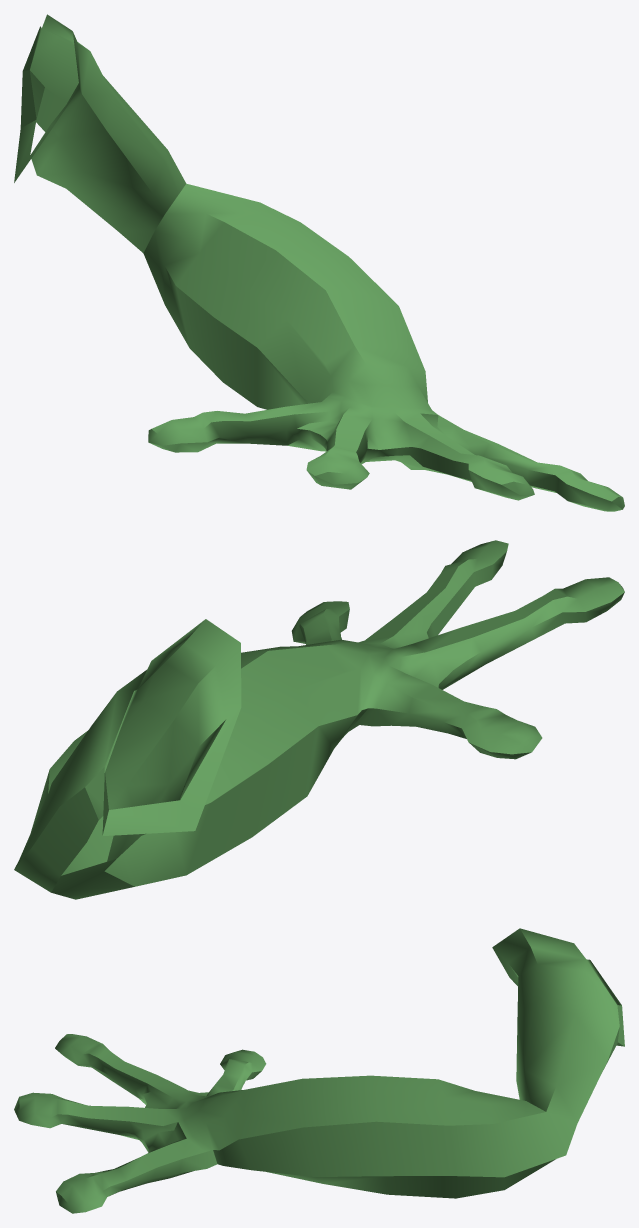
Rendered from rana_pia.obj.
3 views of the same model, one above another, from view 1: azimuth 30°, elevation 25°; view 2: azimuth 150°, elevation 25°; view 3: azimuth 270°, elevation 25° (orthographic). The views are drawn at different scales.
Parts seen in each view (by area): view 1: pataID; view 2: pataID; view 3: pataID.
Part boxes in pixels (x1,y1,x2,y2): pataID: (14, 14, 624, 511); pataID: (14, 540, 624, 899); pataID: (14, 928, 624, 1213).
Size of the model in its own units: 11 by 9.56 by 23.89.
